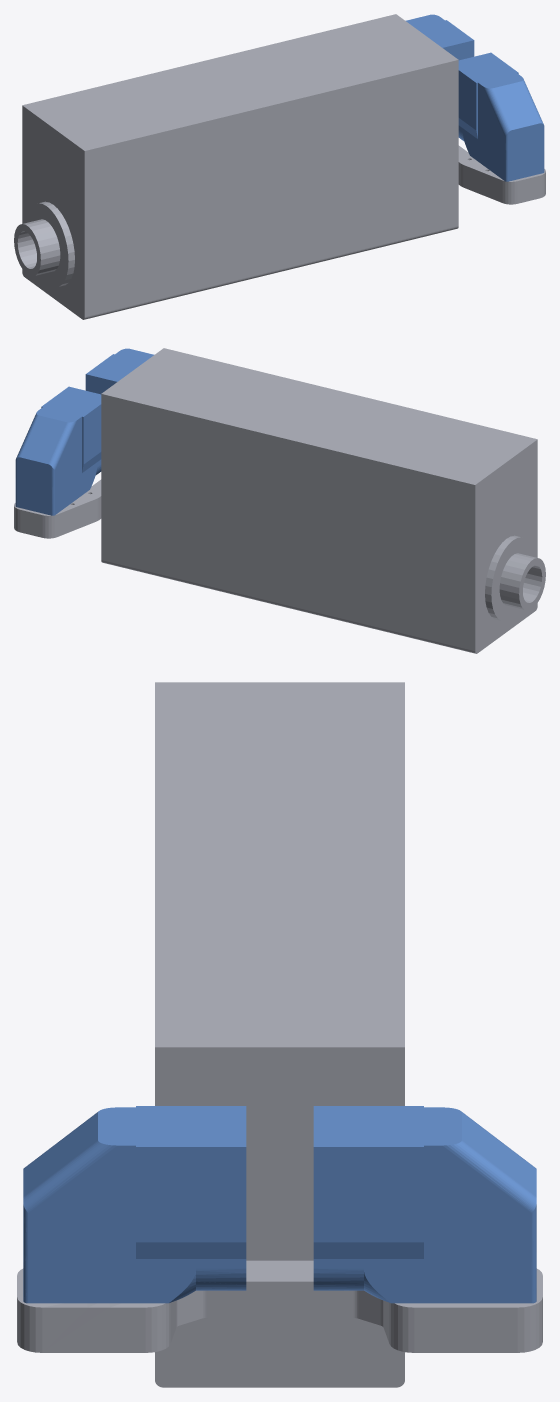
Rendered from body_front.dae.
3 views of the same model, one above another, from view 1: azimuth 30°, elevation 25°; view 2: azimuth 150°, elevation 25°; view 3: azimuth 270°, elevation 25° (orthographic). The views are drawn at different scales.
Visible parts, largest first — view 1: Shape_IndexedFaceSet_002, Shape_IndexedFaceSet, Shape_IndexedFaceSet_001; view 2: Shape_IndexedFaceSet_002, Shape_IndexedFaceSet_001, Shape_IndexedFaceSet; view 3: Shape_IndexedFaceSet_002, Shape_IndexedFaceSet_001, Shape_IndexedFaceSet.
Boxes of the visible parts, x1,y1,x2,y2 form: Shape_IndexedFaceSet_002: (14, 14, 545, 319); Shape_IndexedFaceSet: (458, 52, 544, 181); Shape_IndexedFaceSet_001: (405, 14, 474, 60); Shape_IndexedFaceSet_002: (14, 348, 545, 653); Shape_IndexedFaceSet_001: (15, 386, 101, 515); Shape_IndexedFaceSet: (85, 348, 154, 394); Shape_IndexedFaceSet_002: (17, 682, 542, 1387); Shape_IndexedFaceSet_001: (313, 1106, 536, 1303); Shape_IndexedFaceSet: (23, 1106, 246, 1303).
Size of the model in its own units: 0.422 by 0.21 by 0.15.
